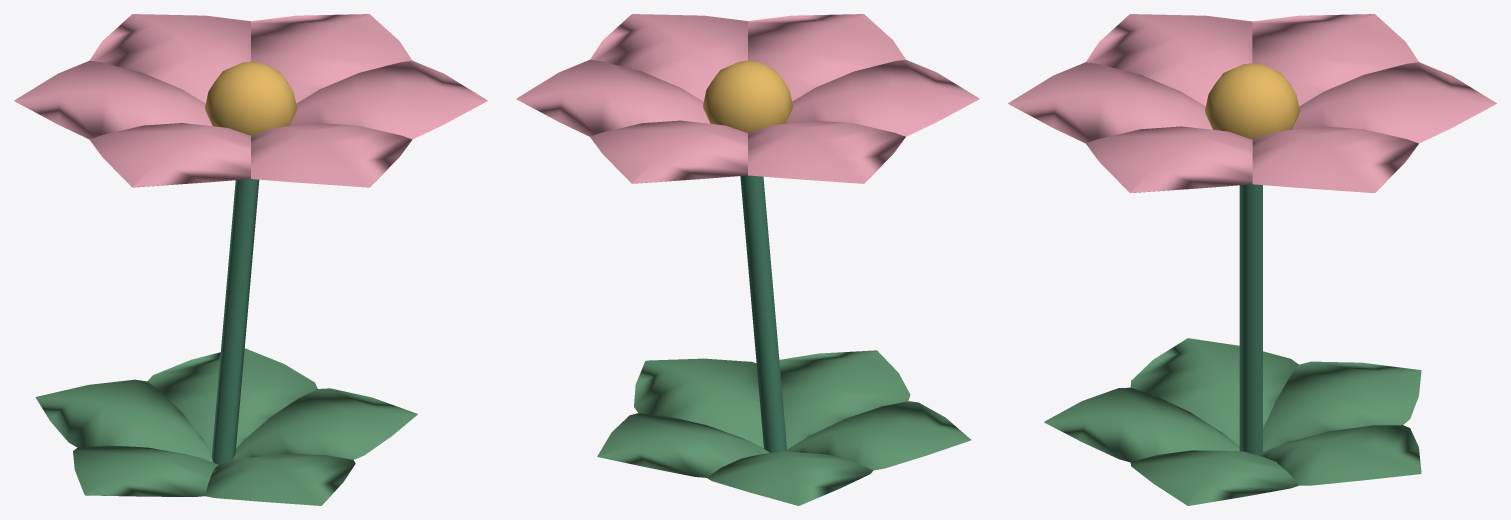
File: starflower.glb
3 renders of one model, left to right at view 1: azimuth 30°, elevation 25°; view 2: azimuth 150°, elevation 25°; view 3: azimuth 270°, elevation 25°, orthographic. The views are drawn at different scales.
Visible parts, largest first — view 1: Vesper / starflower; view 2: Vesper / starflower; view 3: Vesper / starflower.
Boxes of the visible parts, box(x1,y1,x2,y2) form: Vesper / starflower: box(14, 14, 487, 505); Vesper / starflower: box(516, 14, 979, 505); Vesper / starflower: box(1008, 14, 1496, 505).
Bounding box in the file's own units: 1.22 × 1.3 × 1.34.
